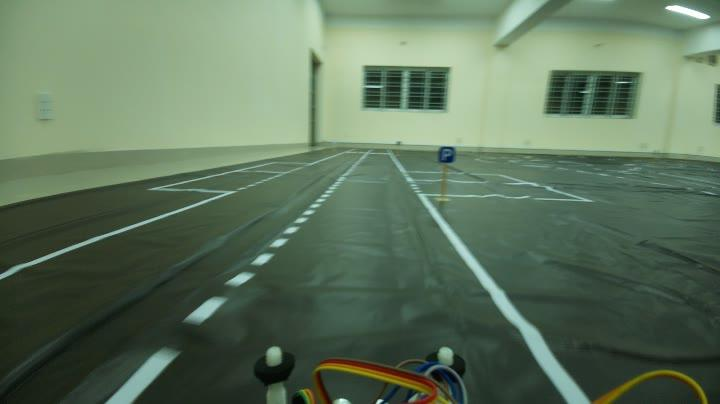parking: (432, 143, 458, 170)
